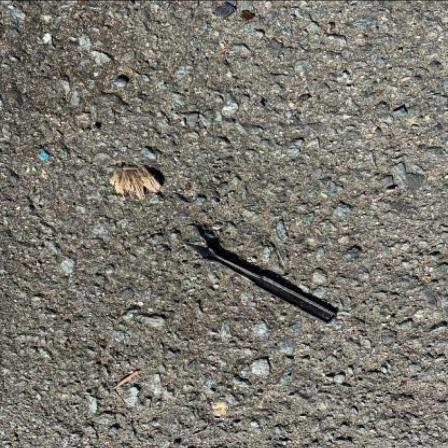Broken glass: (243, 12, 256, 21), (301, 95, 310, 101), (403, 380, 408, 385), (378, 91, 384, 94), (11, 439, 15, 443)
Other litter: (185, 243, 339, 325)
Other plastic: (44, 33, 53, 44), (42, 151, 51, 160)
